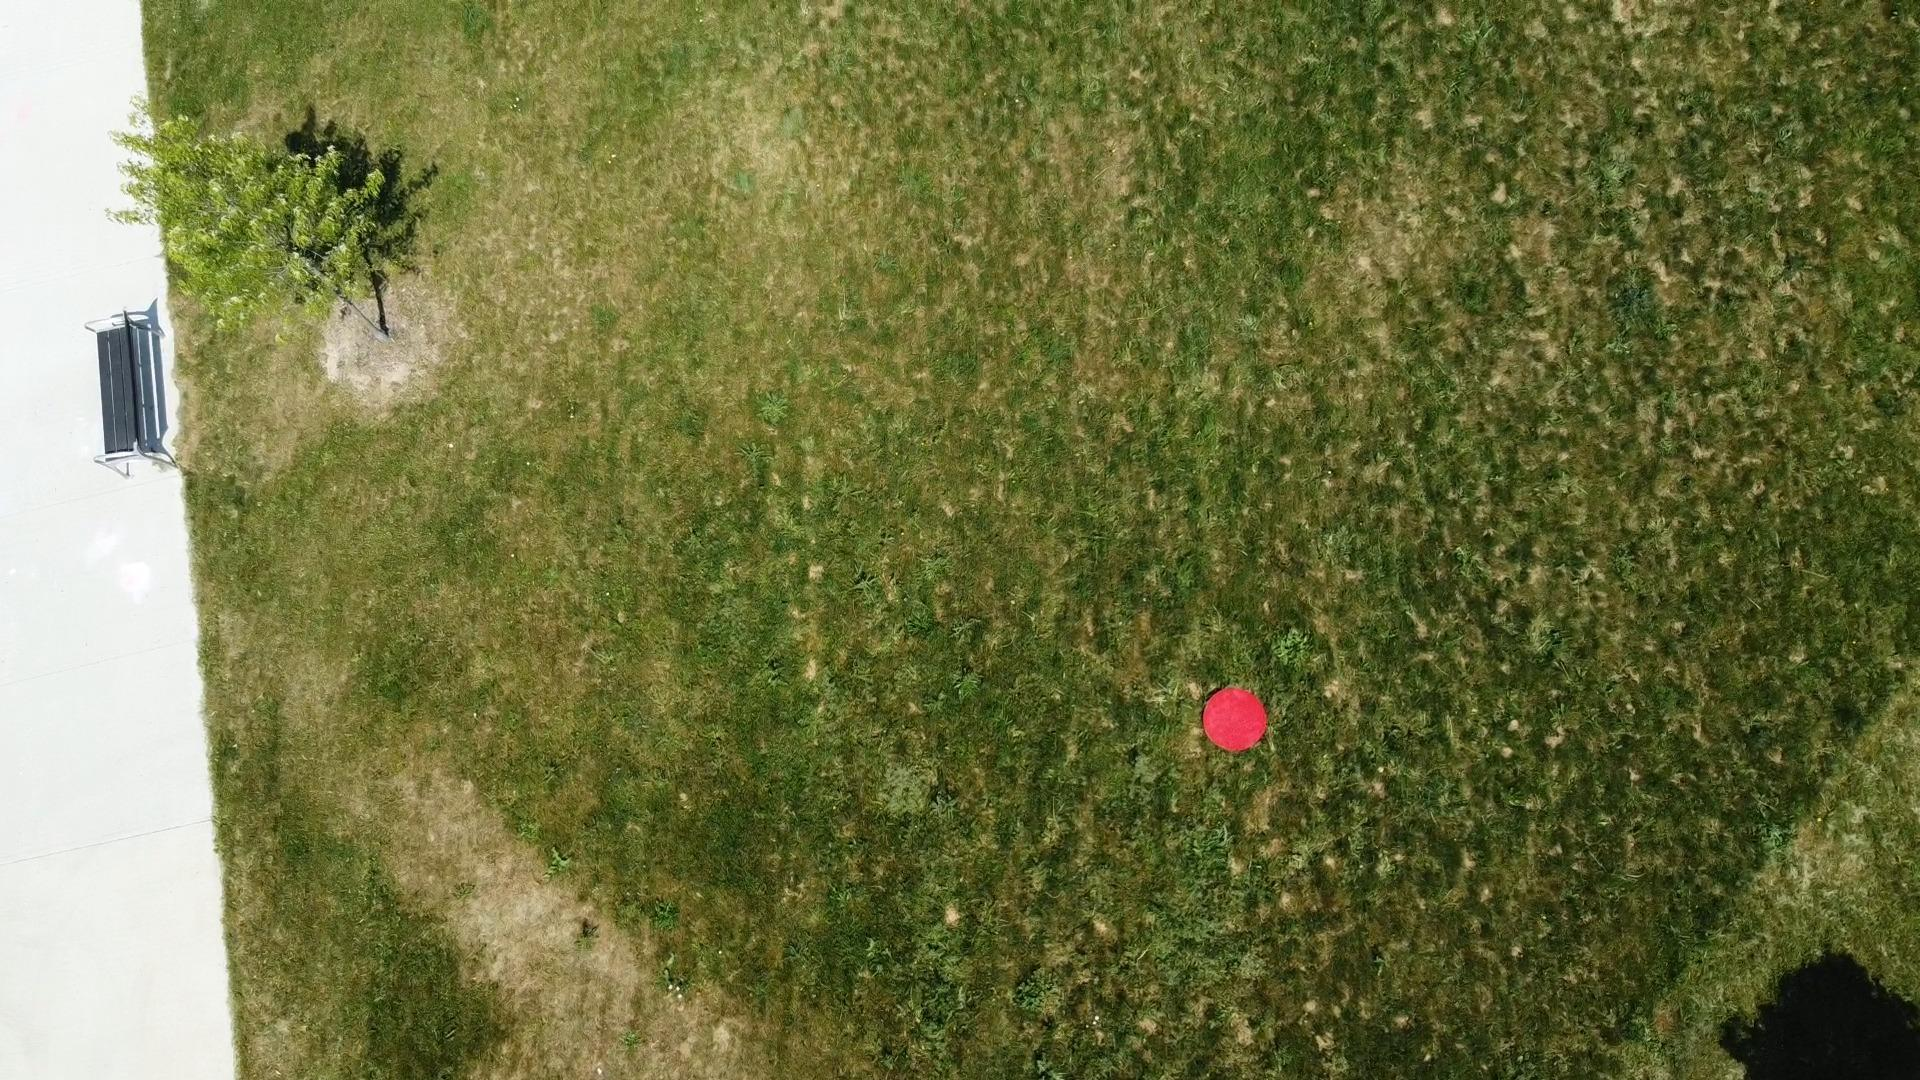Red: (1200, 686, 1271, 756)
